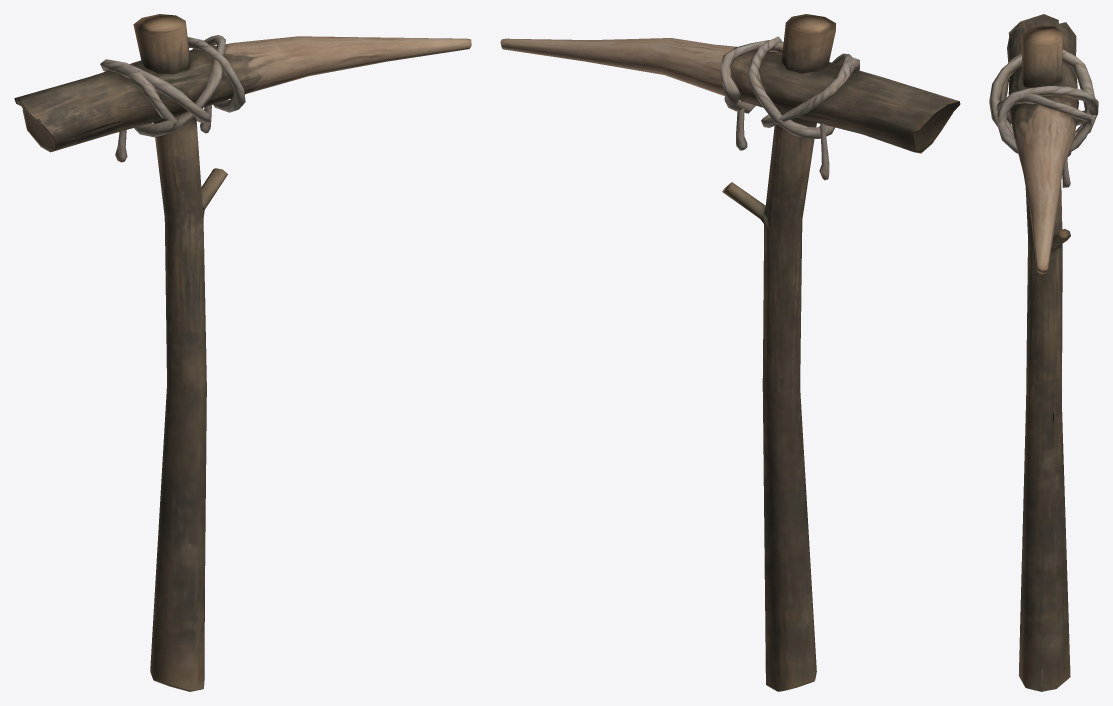
Rendered from Wooden_Pickaxe.glb.
3 renders of one model, left to right at view 1: azimuth 30°, elevation 25°; view 2: azimuth 150°, elevation 25°; view 3: azimuth 270°, elevation 25°, orthographic. The views are drawn at different scales.
Parts seen in each view (by area): view 1: geometry_0; view 2: geometry_0; view 3: geometry_0.
Boxes of the visible parts, x1,y1,x2,y2 form: geometry_0: [14, 14, 471, 691]; geometry_0: [500, 14, 960, 691]; geometry_0: [989, 14, 1098, 691].
Bounding box in the file's own units: 0.3526 × 0.5 × 0.0781.
1 material, 1 textured.
